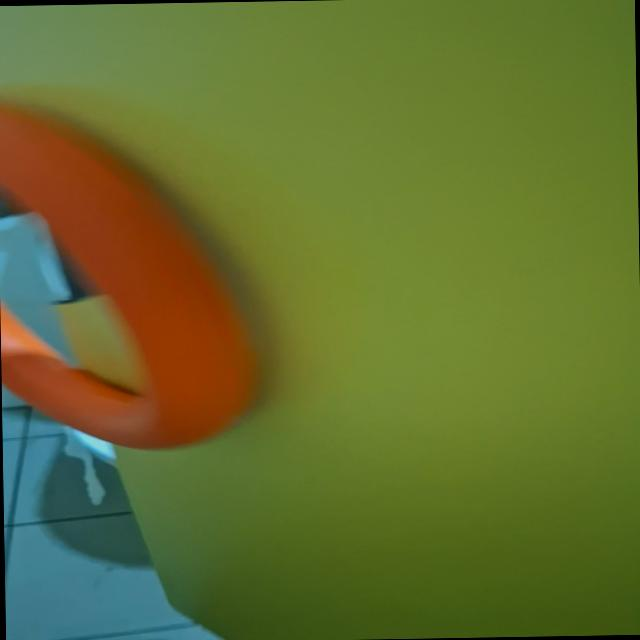note: (0, 92, 262, 453)
